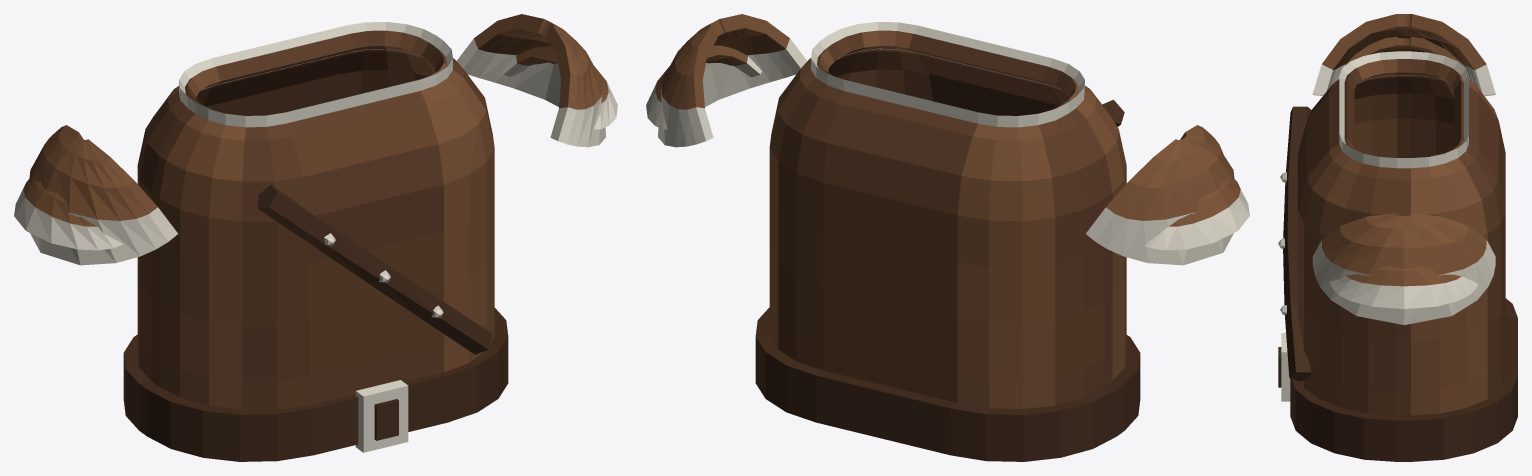
Rendered from armor_body_leather.glb.
The picture shows the model from 3 angles, left to right: view 1: azimuth 30°, elevation 25°; view 2: azimuth 150°, elevation 25°; view 3: azimuth 270°, elevation 25°; orthographic projection. The views are drawn at different scales.
Visible parts, largest first — view 1: armor_body_leather, armor_body_leather_belt, armor_body_leather_pad_R, armor_body_leather_pad_L; view 2: armor_body_leather, armor_body_leather_belt, armor_body_leather_pad_R, armor_body_leather_pad_L; view 3: armor_body_leather, armor_body_leather_pad_L, armor_body_leather_belt, armor_body_leather_pad_R.
Boxes of the visible parts, x1=… form: armor_body_leather: x1=137, y1=22, x2=494, y2=409; armor_body_leather_belt: x1=123, y1=308, x2=508, y2=461; armor_body_leather_pad_R: x1=14, y1=125, x2=177, y2=265; armor_body_leather_pad_L: x1=456, y1=14, x2=617, y2=147; armor_body_leather: x1=769, y1=22, x2=1126, y2=408; armor_body_leather_belt: x1=755, y1=307, x2=1140, y2=461; armor_body_leather_pad_R: x1=1086, y1=125, x2=1249, y2=265; armor_body_leather_pad_L: x1=646, y1=14, x2=807, y2=147; armor_body_leather: x1=1278, y1=51, x2=1505, y2=415; armor_body_leather_pad_L: x1=1312, y1=213, x2=1495, y2=324; armor_body_leather_belt: x1=1278, y1=298, x2=1517, y2=461; armor_body_leather_pad_R: x1=1312, y1=14, x2=1495, y2=96.
Size of the model in its own units: 1.29 by 0.6968 by 0.5274.
